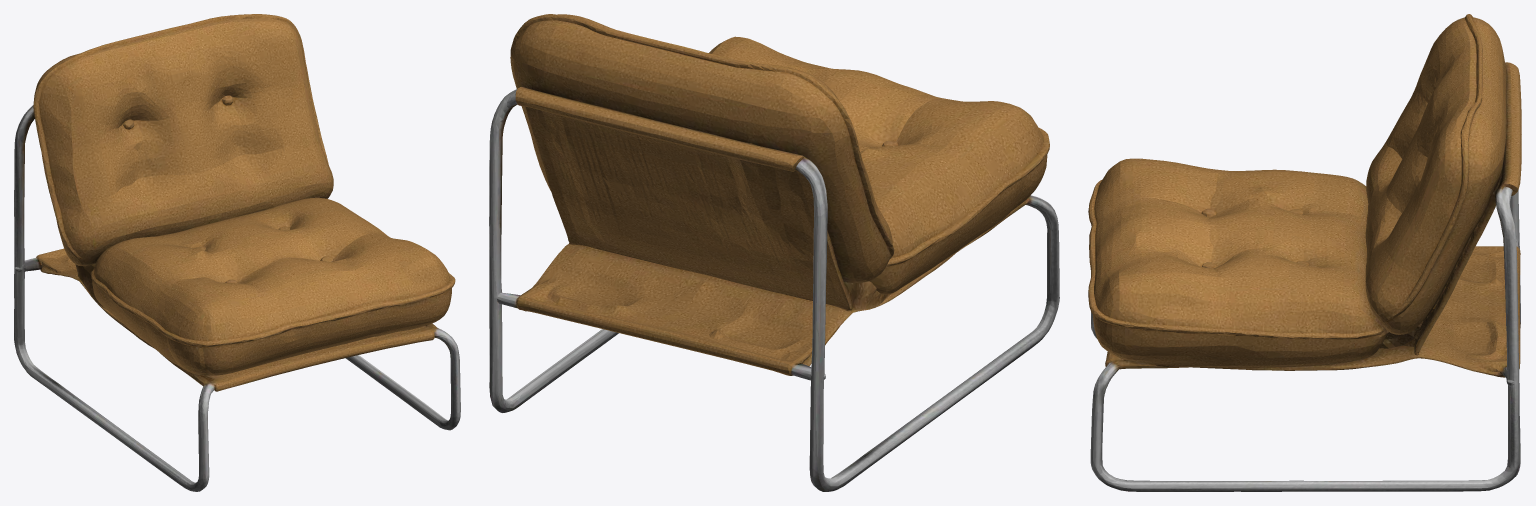
The model's file is armchair.glb.
3 views of the same model, side by side, from view 1: azimuth 30°, elevation 25°; view 2: azimuth 150°, elevation 25°; view 3: azimuth 270°, elevation 25° (orthographic). The views are drawn at different scales.
Visible parts, largest first — view 1: geometry_0; view 2: geometry_0; view 3: geometry_0.
Boxes of the visible parts, x1,y1,x2,y2 form: geometry_0: (14, 14, 460, 491); geometry_0: (489, 14, 1059, 491); geometry_0: (1088, 14, 1521, 491).
Bounding box in the file's own units: 0.7 × 0.77 × 0.85.
1 material, 1 textured.
